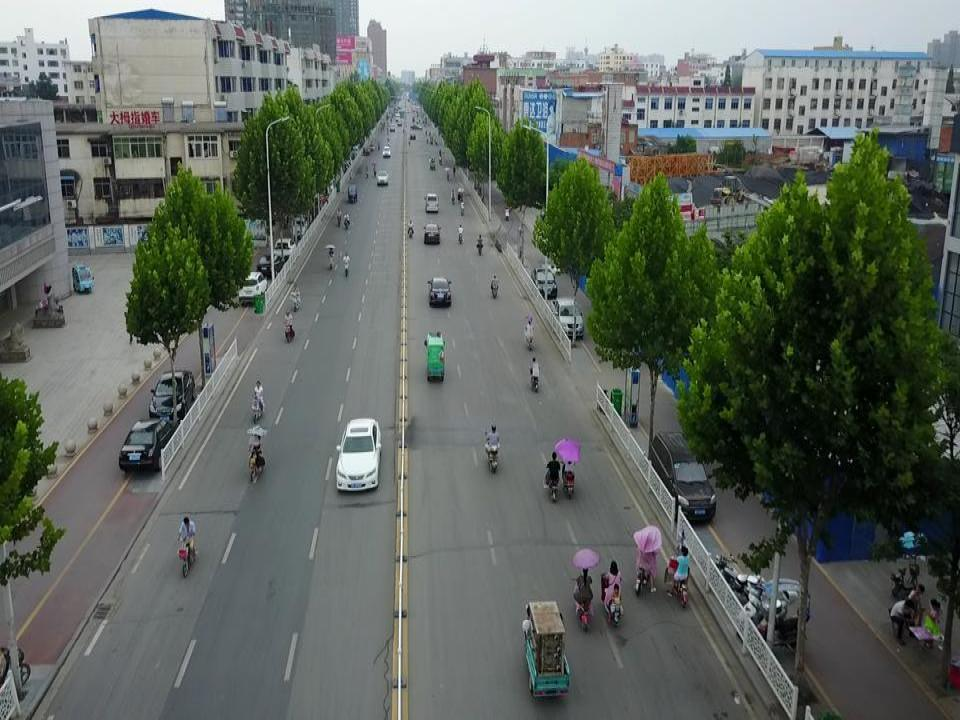car: (647, 431, 718, 521), (335, 417, 382, 494), (118, 419, 181, 474), (149, 371, 196, 419), (549, 296, 586, 340), (238, 271, 268, 305), (530, 268, 558, 299), (257, 253, 287, 280), (427, 279, 453, 309), (273, 237, 297, 264), (288, 217, 308, 239), (423, 224, 441, 245), (425, 194, 439, 214), (376, 171, 389, 185), (381, 146, 390, 158)
